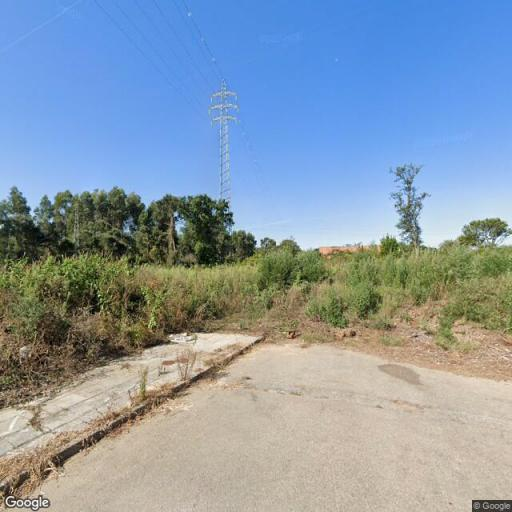ss_3: (208, 80, 241, 252)
